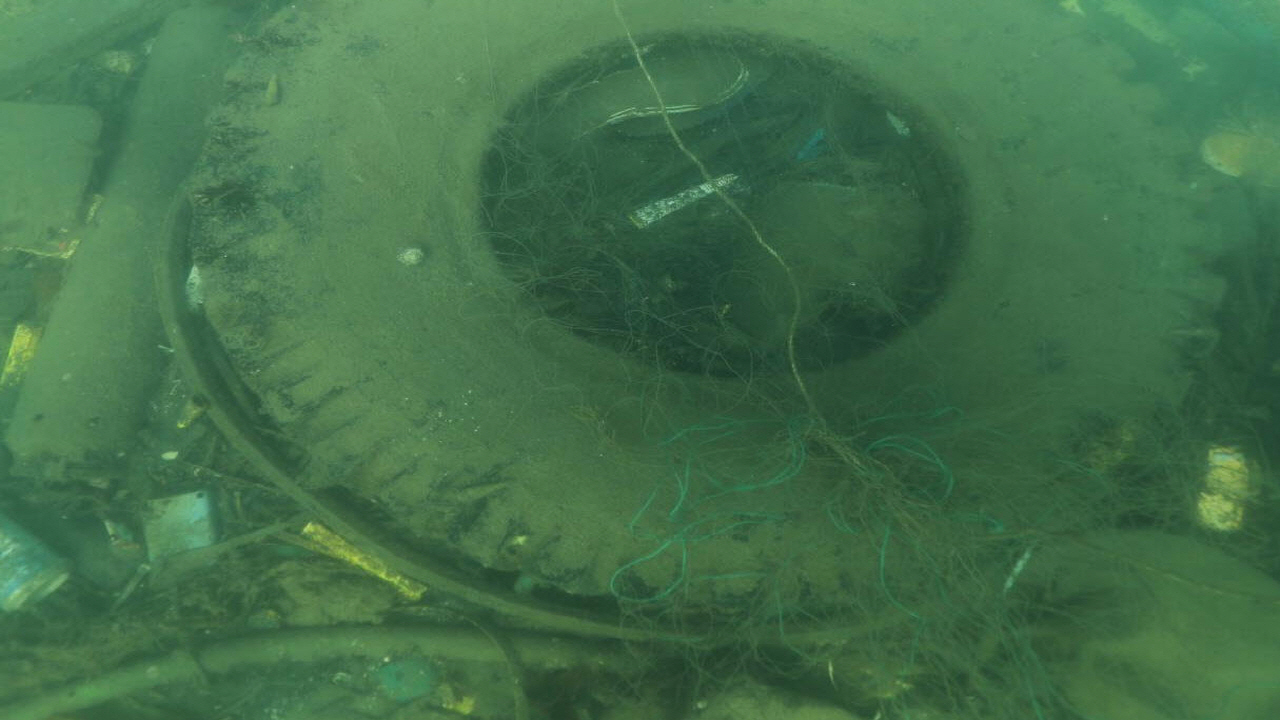eel fish trap: (5, 3, 259, 503)
tire: (193, 0, 1219, 607)
